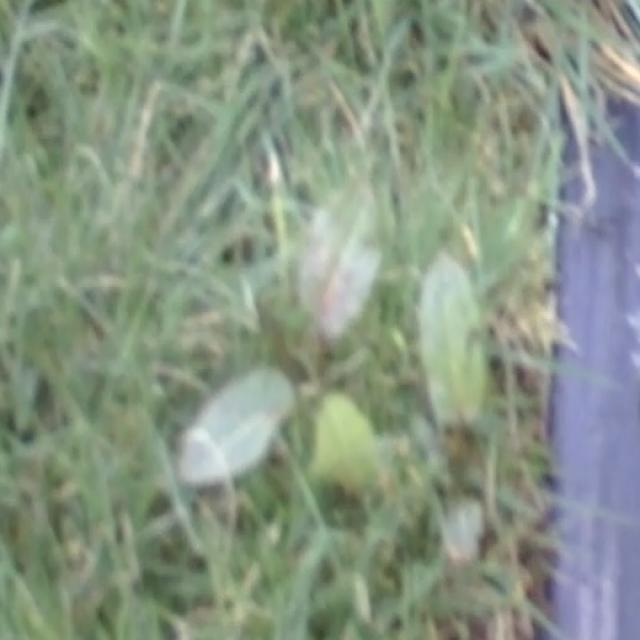organic waste: (171, 180, 556, 591)
